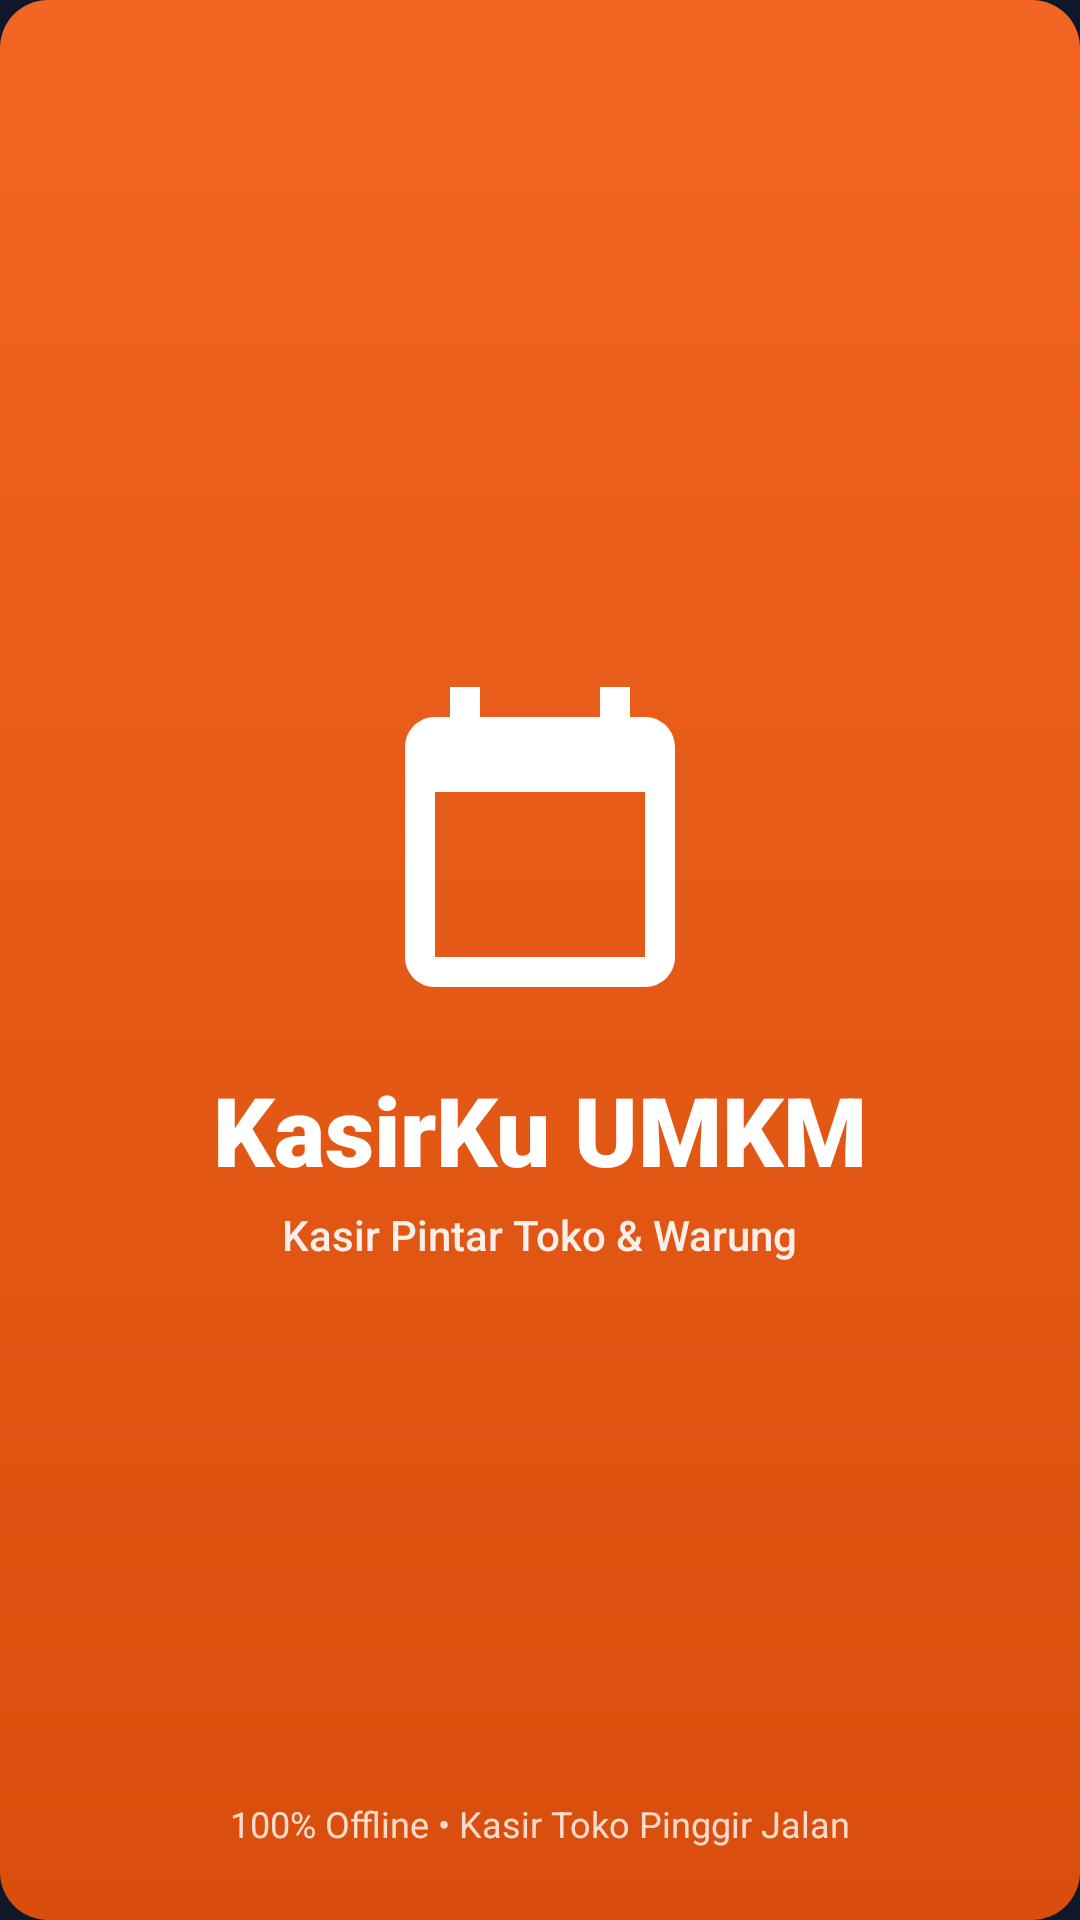

Point at icon controls on the screen. Image size 1080*1920, points as point (x, y).
today: point (540, 837)
